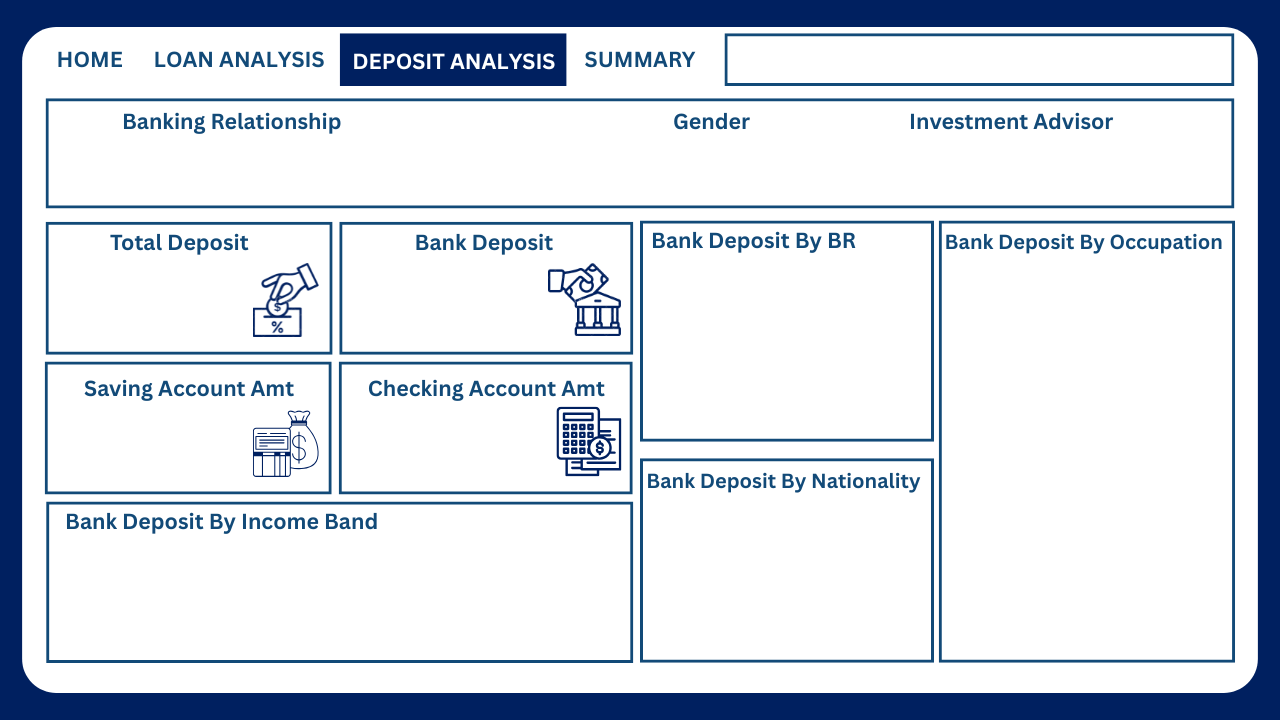

The page's visual inventory and layout, read from the dashboard file:
{"tool":"powerbi","page":{"name":"Deposit Analysis","canvas":[1280,720],"ordinal":2},"visuals":[{"type":"card","fields":{"Values":["banking_case customer.Total Deposite"]},"box":[16.7,260,271.7,83.3],"z":0},{"type":"card","fields":{"Values":["Sum(banking_case customer.Bank Deposits)"]},"box":[315,260,271.7,83.3],"z":1000},{"type":"card","fields":{"Values":["Sum(banking_case customer.Saving Accounts)"]},"box":[15,401.7,271.7,85],"z":2000},{"type":"card","fields":{"Values":["Sum(banking_case customer.Checking Accounts)"]},"box":[313.3,401.7,271.7,85],"z":3000},{"type":"slicer","fields":{"Values":["banking_case customer.Year Of Joining"]},"box":[703.3,31.7,550,55],"z":4000},{"type":"donutChart","fields":{"Category":["Query1.Income Band"],"Y":["Sum(banking_case customer.Bank Deposits)"]},"box":[30.2,520.1,569.5,141.3],"z":5000},{"type":"clusteredColumnChart","fields":{"Category":["banking_case customer.BRId"],"Y":["Sum(banking_case customer.Bank Deposits)"]},"box":[639.5,259.3,289.5,179.8],"z":6000},{"type":"clusteredColumnChart","fields":{"Category":["banking_case customer.Nationality"],"Y":["Sum(banking_case customer.Bank Deposits)"]},"box":[639.5,481.6,289.5,179.8],"z":7000},{"type":"clusteredColumnChart","fields":{"Category":["banking_case customer.BRId"],"Y":["Sum(banking_case customer.Bank Deposits)"]},"box":[941,259.4,289.5,401.7],"z":8000},{"type":"slicer","fields":{"Values":["banking_case customer.BRId"]},"box":[30.2,139.9,569.4,60.3],"z":9000},{"type":"slicer","fields":{"Values":["Query1.GenderId"]},"box":[559.8,139.9,307.6,60.3],"z":10000},{"type":"slicer","fields":{"Values":["banking_case customer.IAId"]},"box":[855.4,141.2,375.2,60.3],"z":11000},{"type":"actionButton","box":[152,31.4,172.5,54.3],"z":12000},{"type":"actionButton","box":[43.4,39.8,90.5,39.8],"z":13000},{"type":"actionButton","box":[338.3,31.7,238.3,53.3],"z":14000},{"type":"actionButton","box":[576.7,32.6,126.7,54.3],"z":15000}]}

Visuals, with their boxes in screenshot pixels (x1, y1, x2, y2), scaled from the page's 1280x720 canvas onto the 1280x720 screenshot:
card - banking_case customer.Total Deposite: 17/260/288/343
card - Sum(banking_case customer.Bank Deposits): 315/260/587/343
card - Sum(banking_case customer.Saving Accounts): 15/402/287/487
card - Sum(banking_case customer.Checking Accounts): 313/402/585/487
slicer - banking_case customer.Year Of Joining: 703/32/1253/87
donutChart - Query1.Income Band x Sum(banking_case customer.Bank Deposits): 30/520/600/661
clusteredColumnChart - banking_case customer.BRId x Sum(banking_case customer.Bank Deposits): 640/259/929/439
clusteredColumnChart - banking_case customer.Nationality x Sum(banking_case customer.Bank Deposits): 640/482/929/661
clusteredColumnChart - banking_case customer.BRId x Sum(banking_case customer.Bank Deposits): 941/259/1230/661
slicer - banking_case customer.BRId: 30/140/600/200
slicer - Query1.GenderId: 560/140/867/200
slicer - banking_case customer.IAId: 855/141/1231/202
actionButton: 152/31/324/86
actionButton: 43/40/134/80
actionButton: 338/32/577/85
actionButton: 577/33/703/87
